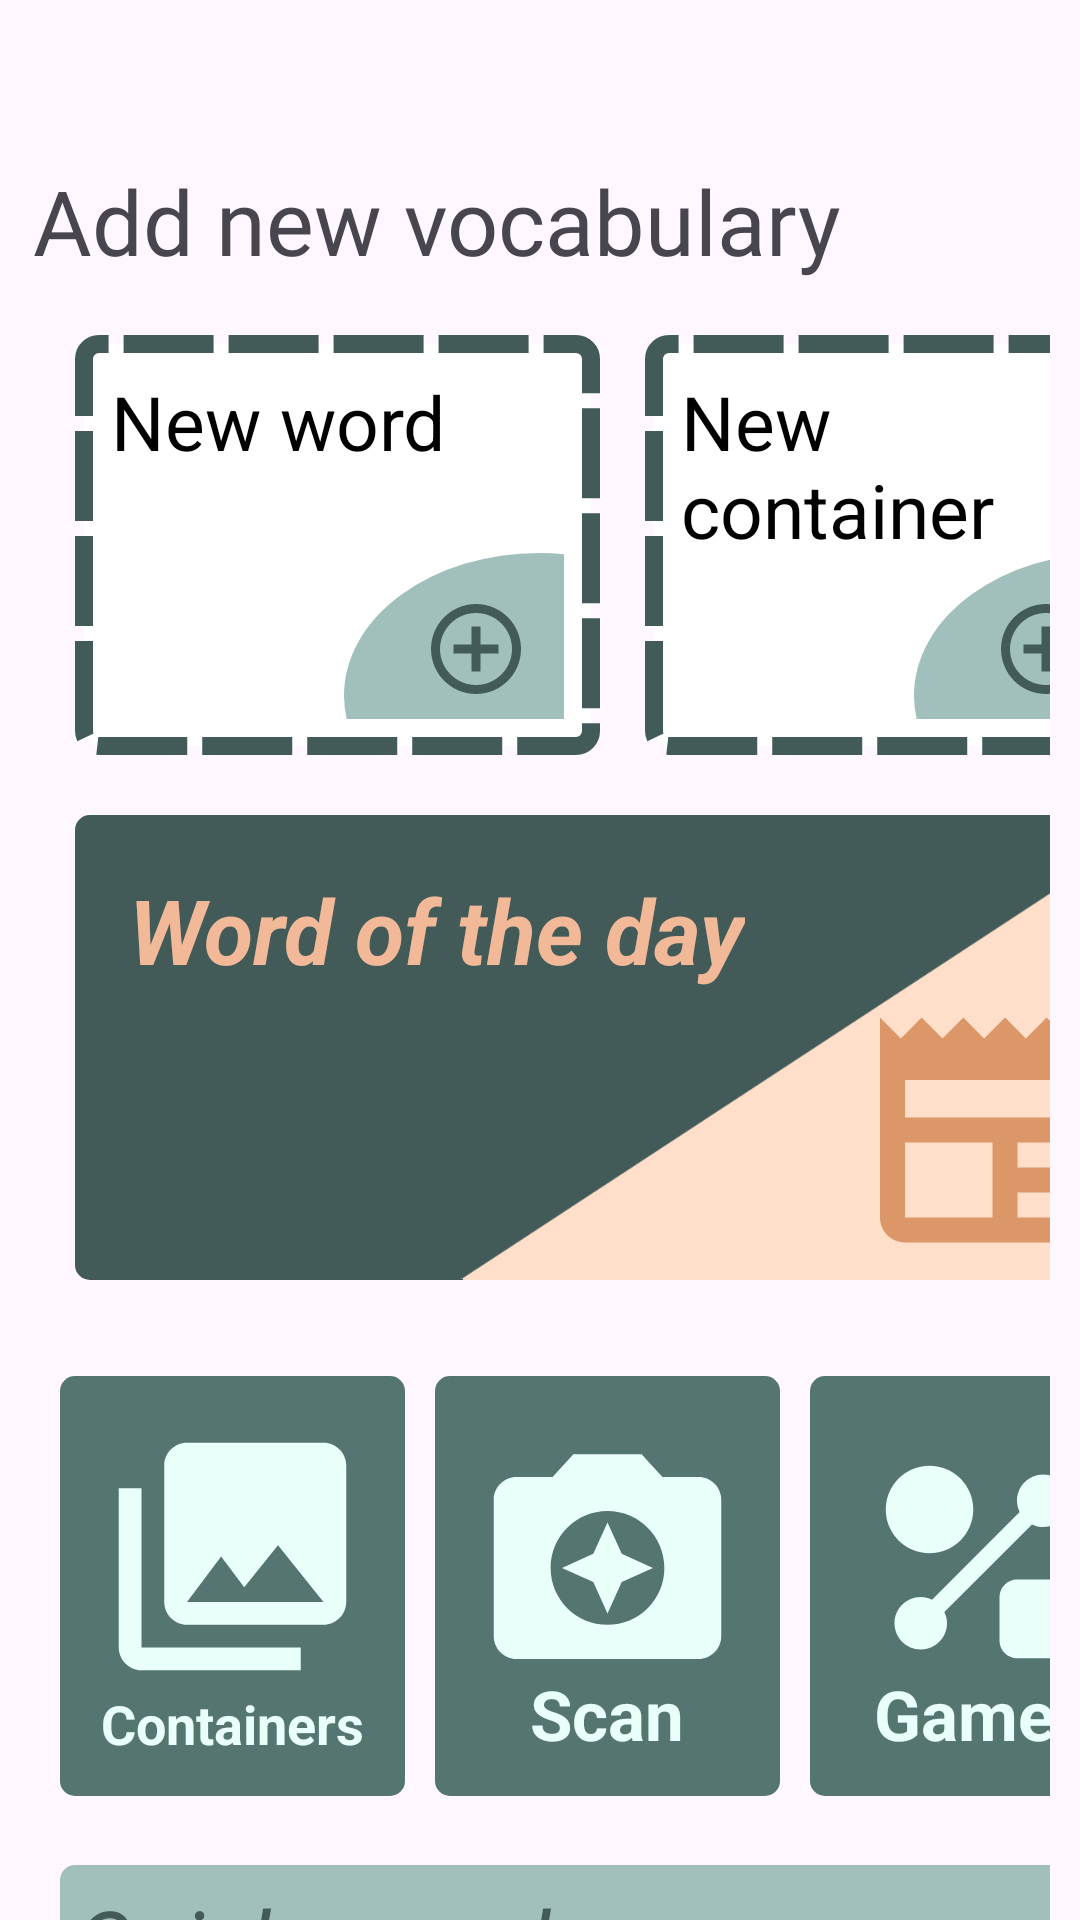

Named icons in this screenshot (1080w x 1920h) and their centers, (x=x, y=y):
camera clear: (x=607, y=1556)
collections clear: (x=232, y=1556)
